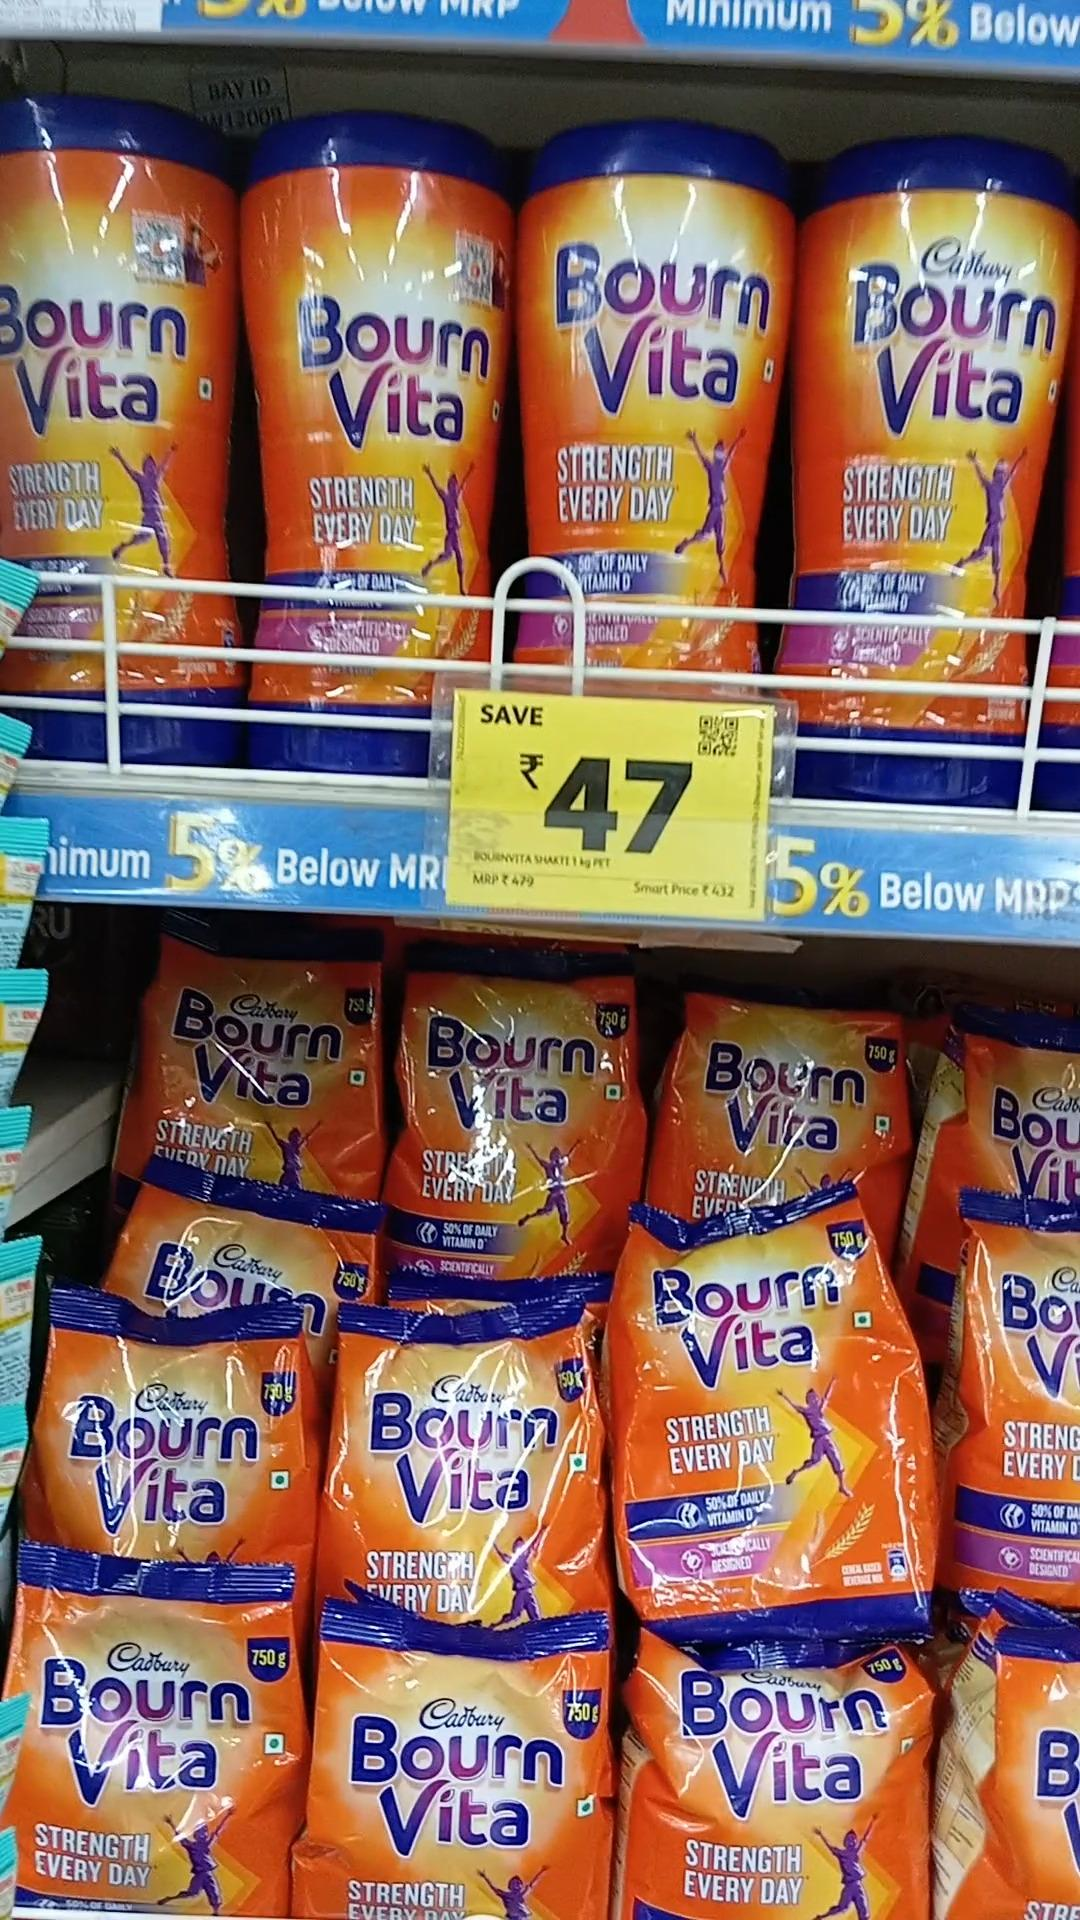BOURN_VITA_1_KG_JAR: (804, 146, 1038, 798), (3, 98, 227, 766), (513, 120, 766, 682), (244, 117, 489, 683)
BOURN_VITA_750_G_POUCH: (647, 1215, 924, 1625), (11, 1544, 281, 1919), (315, 1605, 597, 1920), (625, 1636, 918, 1920), (410, 953, 633, 1290), (335, 1309, 596, 1596), (144, 923, 389, 1176), (674, 963, 895, 1184)
